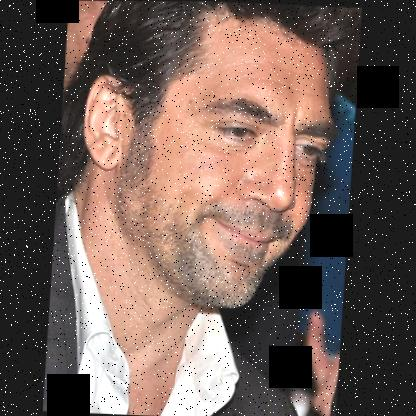Male: (73, 6, 338, 312)
